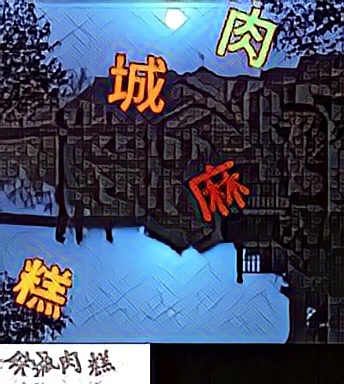B3C7: (107, 54, 167, 118)
B8E2: (10, 255, 70, 319)
C2E9: (188, 160, 248, 224)
C8E2: (215, 6, 275, 70)
